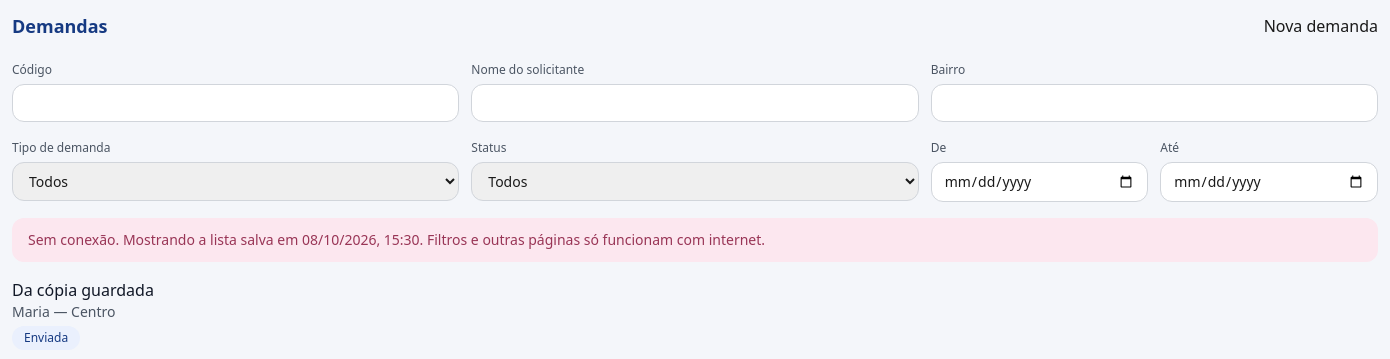
Test case: DemandasPage — lista sem internet › quando a internet volta e a busca funciona, o aviso some e a lista é a do servidor
expect the text "Da cópia guardada" is shown: met, box x1=12 y1=279 x2=154 y2=301
Step 1. Select "Recebida" in the dropdown labelled "Status" → (695, 182), box x1=471 y1=162 x2=919 y2=201
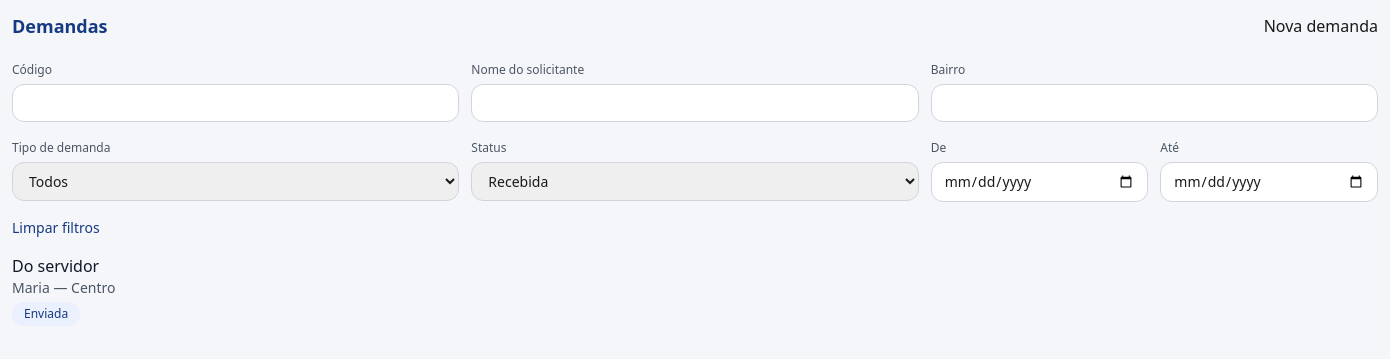
expect the text "Do servidor" is shown: met, box x1=12 y1=255 x2=99 y2=277
expect the message is gone: met
